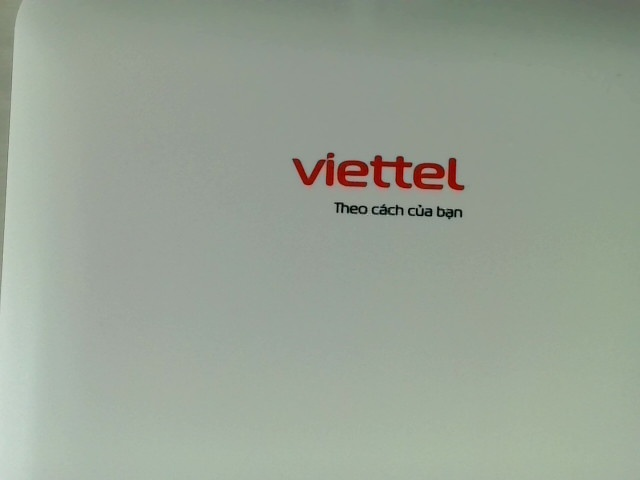AY_Viettel: (288, 146, 470, 225)
